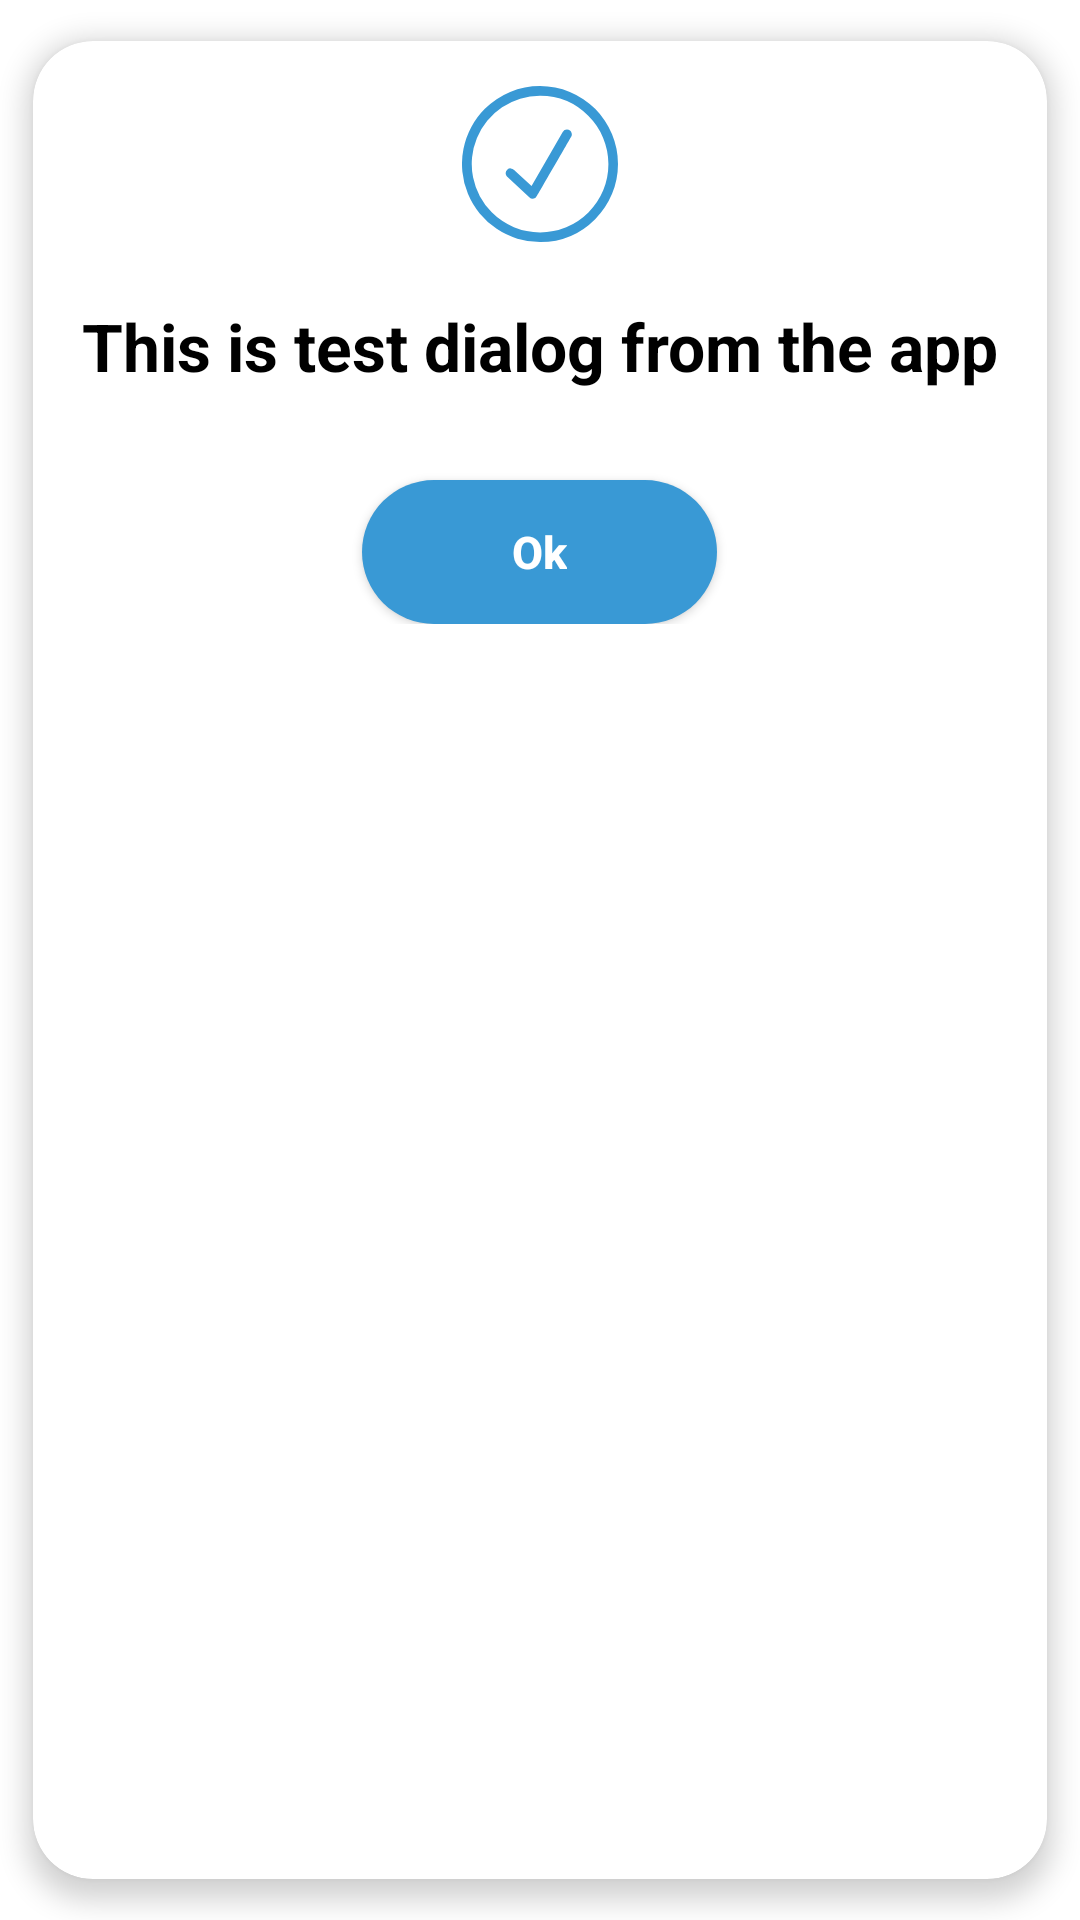

Screen size 1080x1920. Icon name, then its box in pixels as [x1=x1, y1=y1, x2=x2, y2=y2]:
tick: [x1=462, y1=86, x2=618, y2=242]
